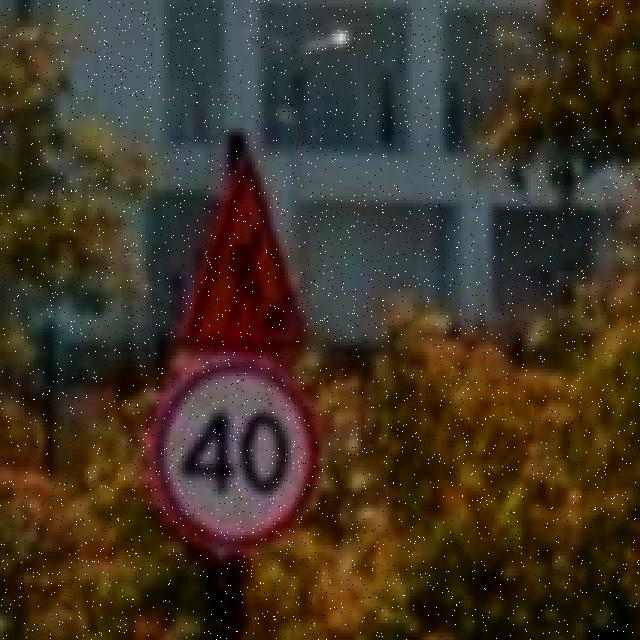Ograniczenie predkosci do 40: (154, 362, 318, 552)
